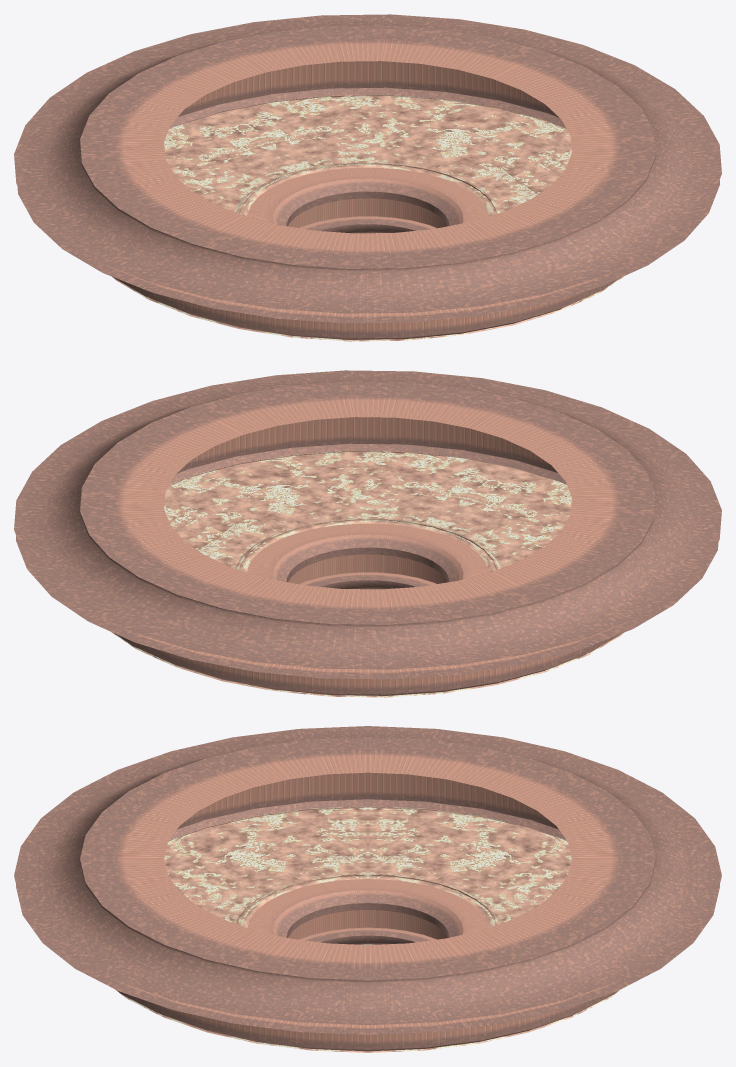
File: Starship_interior.fbx
3 renders of one model, top to bottom at view 1: azimuth 30°, elevation 25°; view 2: azimuth 150°, elevation 25°; view 3: azimuth 270°, elevation 25°, orthographic.
Visible parts, largest first — view 1: Starship_interior; view 2: Starship_interior; view 3: Starship_interior.
Part boxes in pixels (left/top/right/bottom): Starship_interior: left=14, top=14, right=721, bottom=341; Starship_interior: left=14, top=370, right=721, bottom=697; Starship_interior: left=14, top=726, right=721, bottom=1052.
Size of the model in its own units: 2690 by 524 by 2690.
